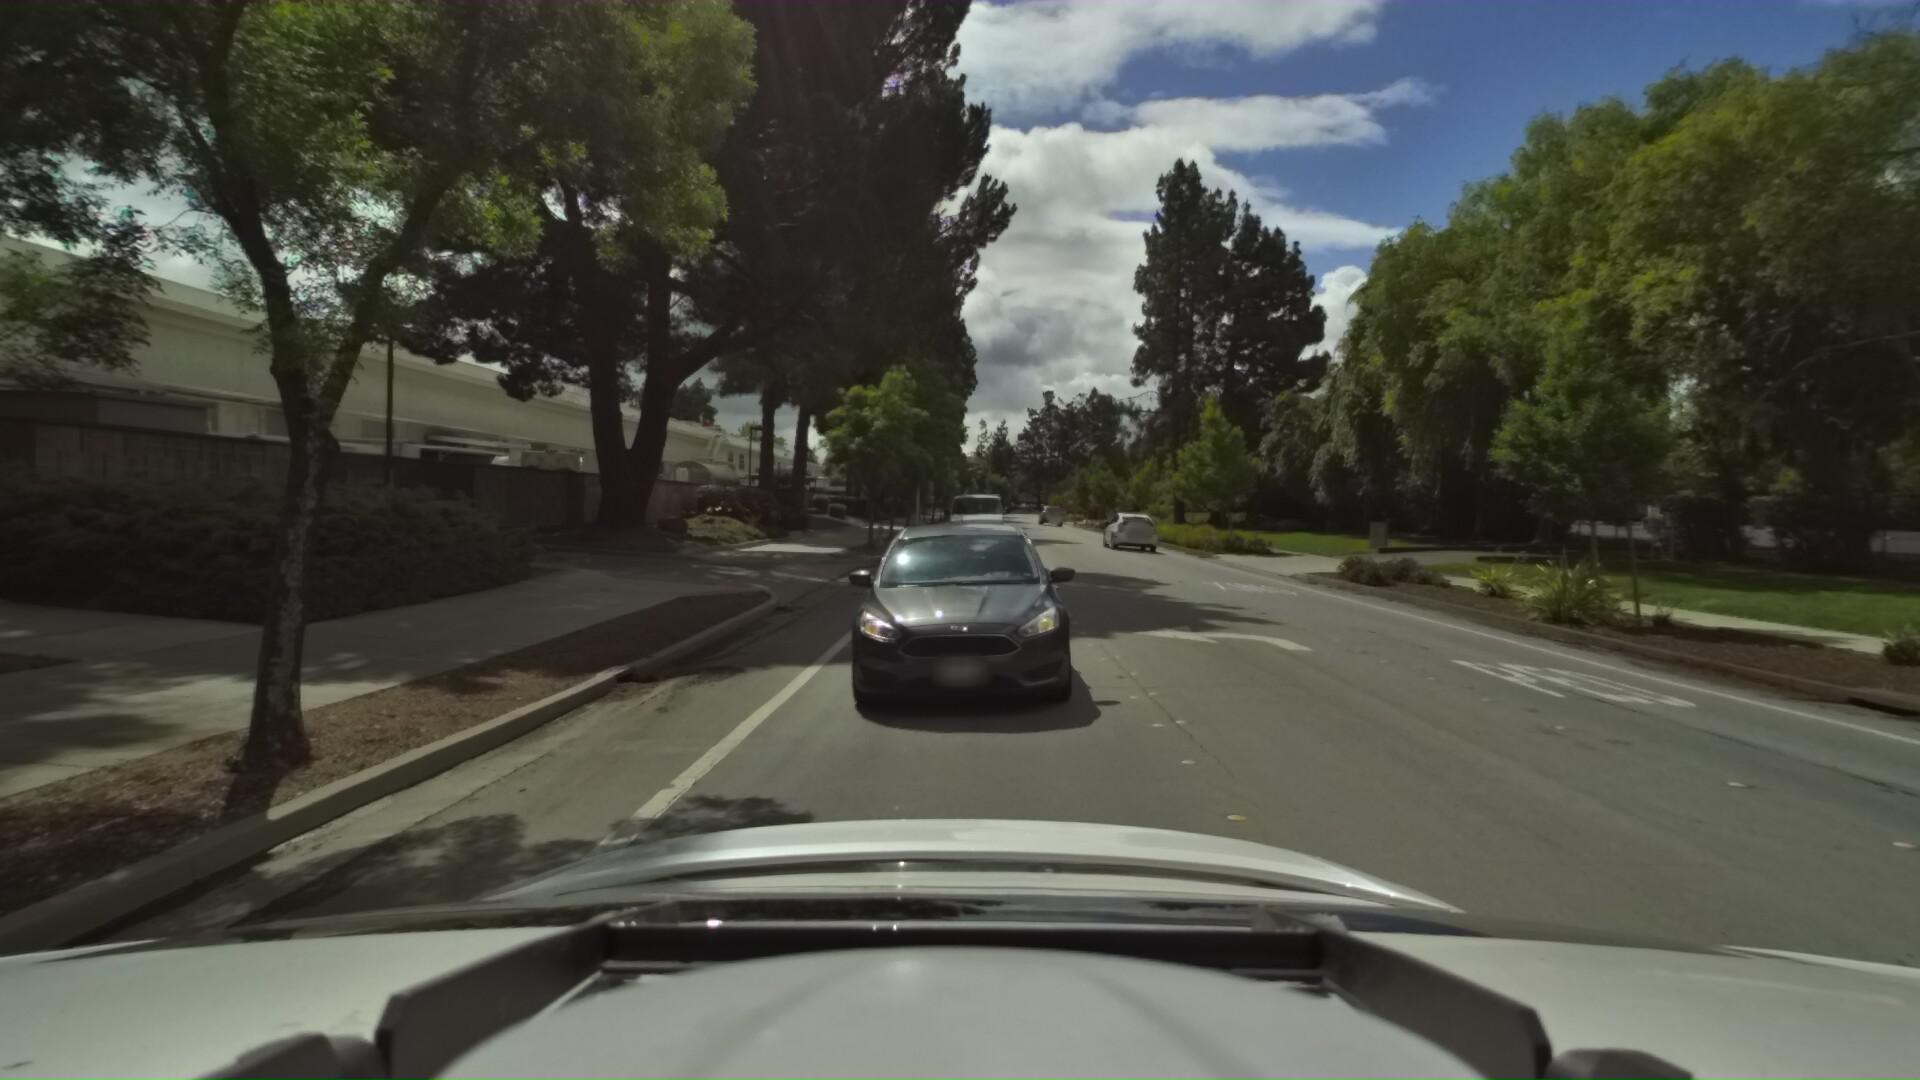car: (804, 498, 1089, 746), (943, 477, 1013, 553), (1096, 506, 1155, 547)
